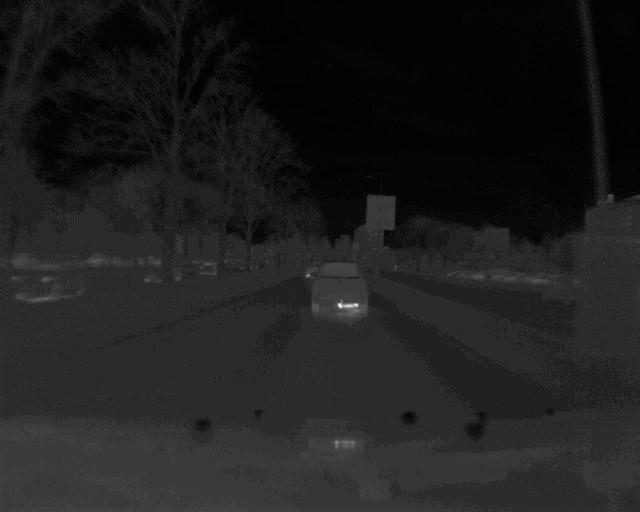car: (308, 260, 373, 322), (9, 257, 86, 306)
